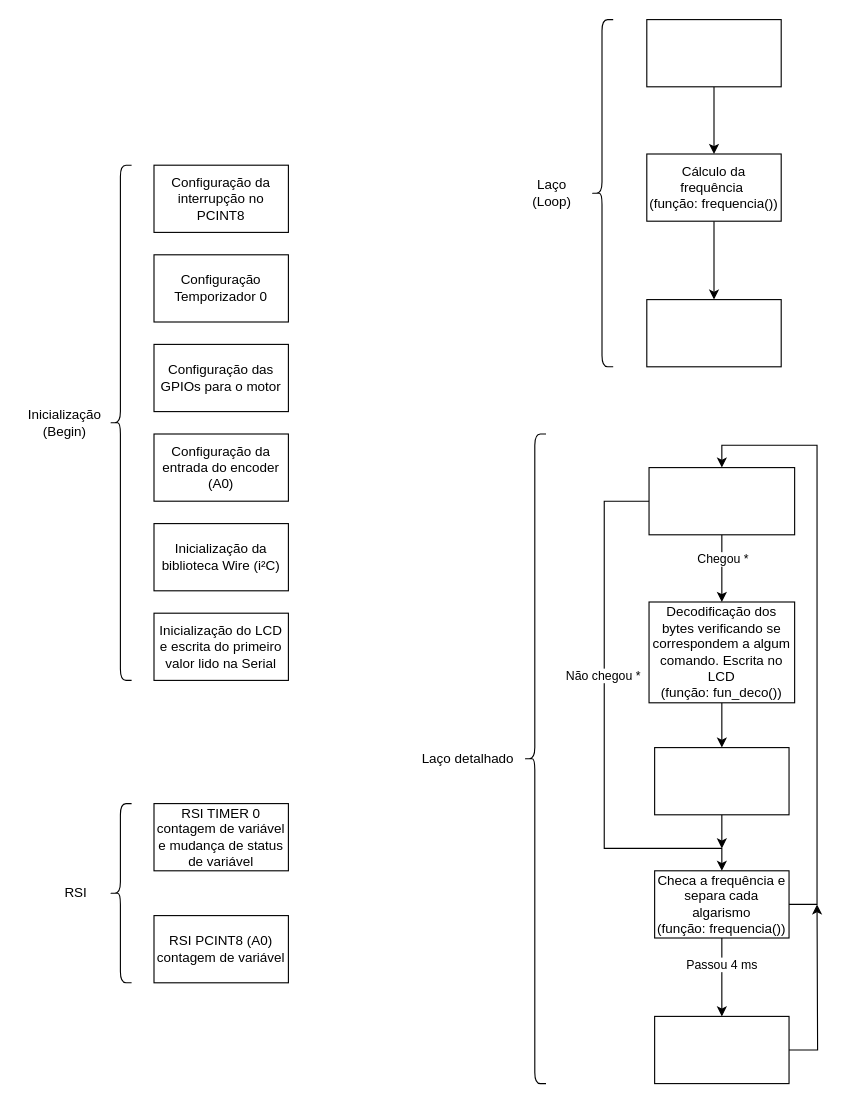
The diagram is 846 pixels wide and 1103 high, and some of its shapes have lost their labels. Each missing label, with the centre of its shape:
"Atualização dos Displays de 7 segmentos (função: visor())" goes at point 713,332.
"Atualização dos displays por I²C" goes at point 721,1049.
"Execução dos comandos do motor (função: motor())" goes at point 721,780.
"Recepção dos bytes e checagem do * (função: fun_receber())" goes at point 721,500.
"Recepção, decodificação e amostragem no LCD (função: fun_deco())" goes at point 713,52.
